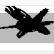not correct: (0, 6, 54, 39)
